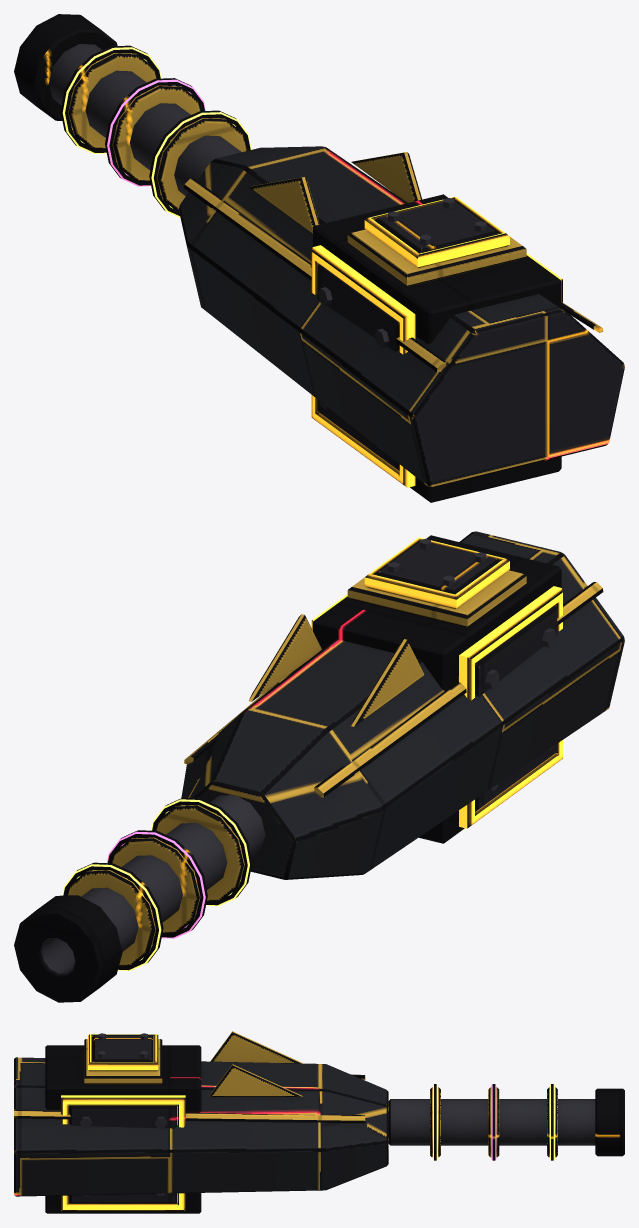
Rendered from laser_pesado_t4.fbx.
3 renders of one model, top to bottom at view 1: azimuth 30°, elevation 25°; view 2: azimuth 150°, elevation 25°; view 3: azimuth 270°, elevation 25°, orthographic. The views are drawn at different scales.
Visible parts, largest first — view 1: laser_pesado_t4, laser_pesado_t4_neon; view 2: laser_pesado_t4, laser_pesado_t4_neon; view 3: laser_pesado_t4, laser_pesado_t4_neon, laser_pesado_t4_neon2.
Boxes of the visible parts, x1,y1,x2,y2 form: laser_pesado_t4: [14, 14, 624, 502]; laser_pesado_t4_neon: [62, 47, 251, 217]; laser_pesado_t4: [14, 531, 624, 1002]; laser_pesado_t4_neon: [62, 799, 249, 970]; laser_pesado_t4: [14, 1031, 624, 1213]; laser_pesado_t4_neon: [433, 1084, 554, 1160]; laser_pesado_t4_neon2: [491, 1084, 496, 1160].
Size of the model in its own units: 2.08 by 2.11 by 7.83.
